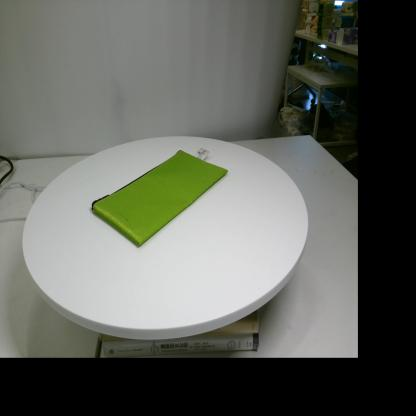Stationery: (92, 148, 228, 246)
